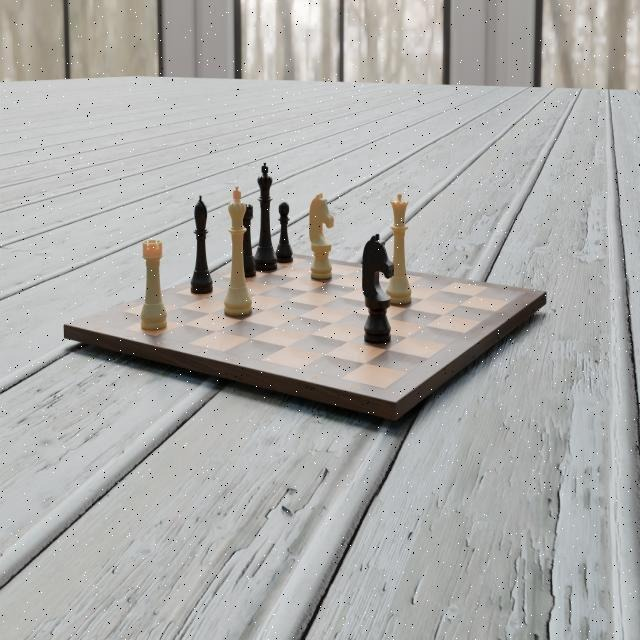black-bishop: (189, 191, 214, 297)
black-king: (249, 161, 277, 263)
black-knight: (357, 236, 390, 348)
black-pawn: (274, 194, 294, 265)
black-rook: (234, 188, 257, 281)
white-king: (222, 188, 252, 315)
white-knight: (305, 191, 333, 283)
white-queen: (384, 187, 412, 306)
white-rook: (139, 234, 168, 332)
